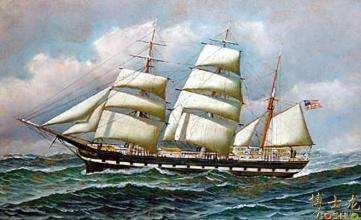fanchuan: (10, 25, 332, 174)
